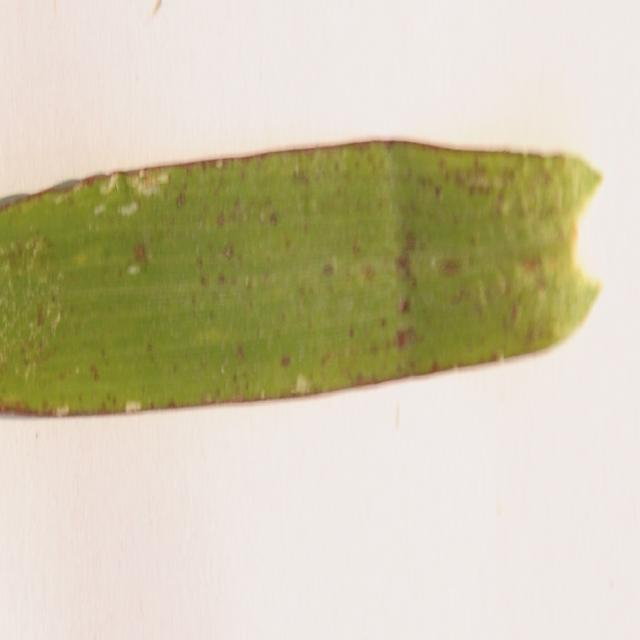Leafsmut: (325, 354, 414, 390), (1, 234, 55, 288), (127, 170, 170, 198), (46, 177, 86, 198), (102, 172, 133, 198), (567, 210, 583, 256), (395, 249, 416, 282), (22, 235, 48, 259), (466, 178, 494, 199), (222, 201, 245, 226), (200, 326, 227, 344), (70, 250, 92, 268), (475, 284, 490, 309), (520, 256, 542, 272), (132, 242, 148, 262), (34, 304, 47, 328), (99, 178, 117, 195), (403, 230, 418, 250), (442, 260, 461, 275), (396, 329, 411, 348), (494, 276, 508, 296), (118, 202, 137, 216), (362, 264, 376, 282), (292, 165, 306, 183), (84, 174, 103, 187), (24, 361, 36, 381), (500, 198, 513, 216), (124, 401, 142, 413), (175, 190, 187, 208), (398, 297, 411, 313), (51, 312, 63, 329), (89, 363, 100, 381), (321, 263, 335, 277), (104, 392, 117, 407), (296, 374, 308, 390), (509, 303, 519, 322), (195, 255, 206, 272), (222, 244, 234, 259), (93, 203, 106, 216), (352, 240, 362, 256), (450, 360, 462, 373), (56, 404, 70, 415), (321, 352, 332, 366), (236, 344, 246, 359), (216, 212, 226, 227), (268, 212, 278, 226), (198, 274, 208, 288), (433, 184, 443, 198), (280, 355, 291, 367), (158, 172, 169, 184), (128, 264, 140, 275), (429, 361, 440, 373), (355, 373, 366, 385), (430, 256, 440, 269), (243, 274, 252, 288), (53, 193, 64, 204), (217, 273, 227, 285), (166, 399, 178, 409), (537, 288, 547, 300), (488, 352, 500, 362), (144, 342, 154, 353), (496, 352, 506, 363), (204, 393, 214, 403), (215, 159, 225, 169), (138, 168, 146, 180), (348, 326, 356, 338), (258, 388, 266, 399), (379, 318, 387, 328), (220, 364, 227, 375)
